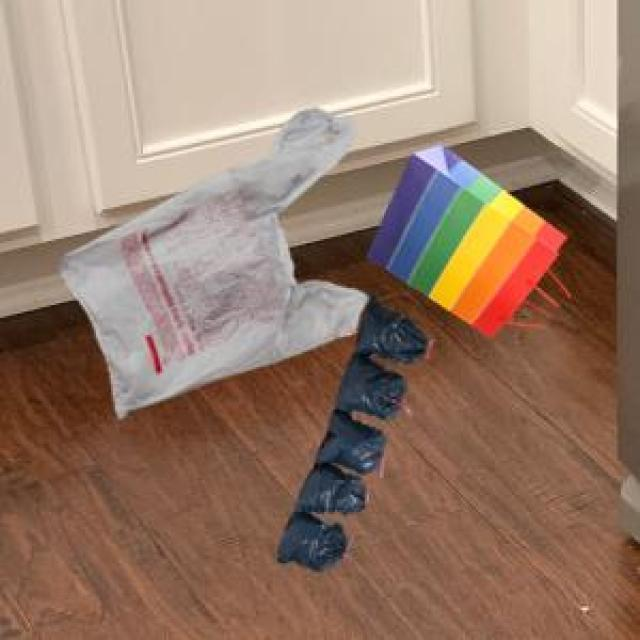miscellaneous trash: (273, 286, 425, 568)
paper: (363, 141, 561, 333)
